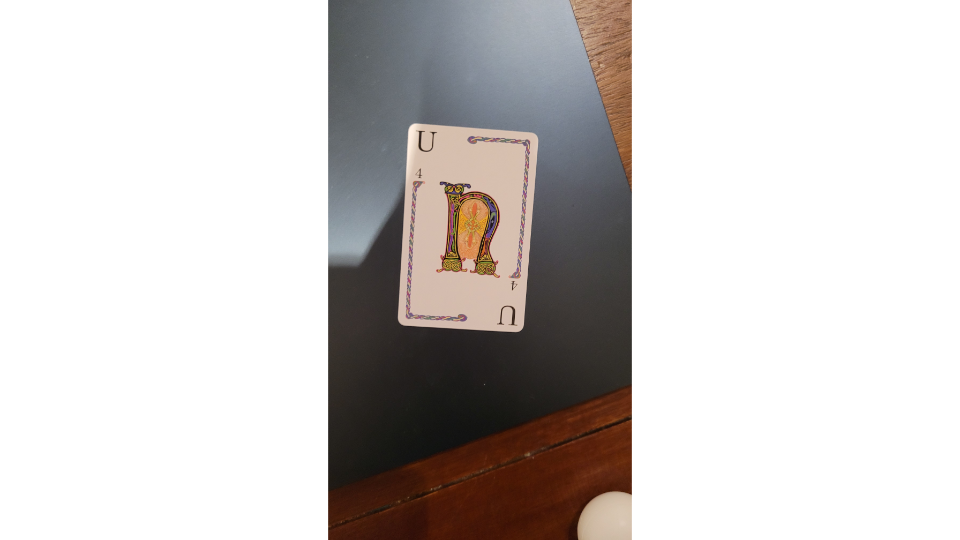U: (392, 120, 542, 335)
